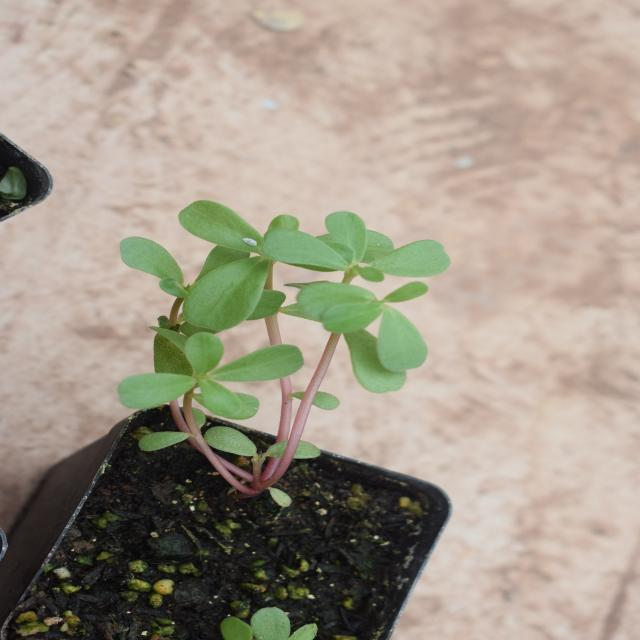purslane: (161, 196, 479, 491)
